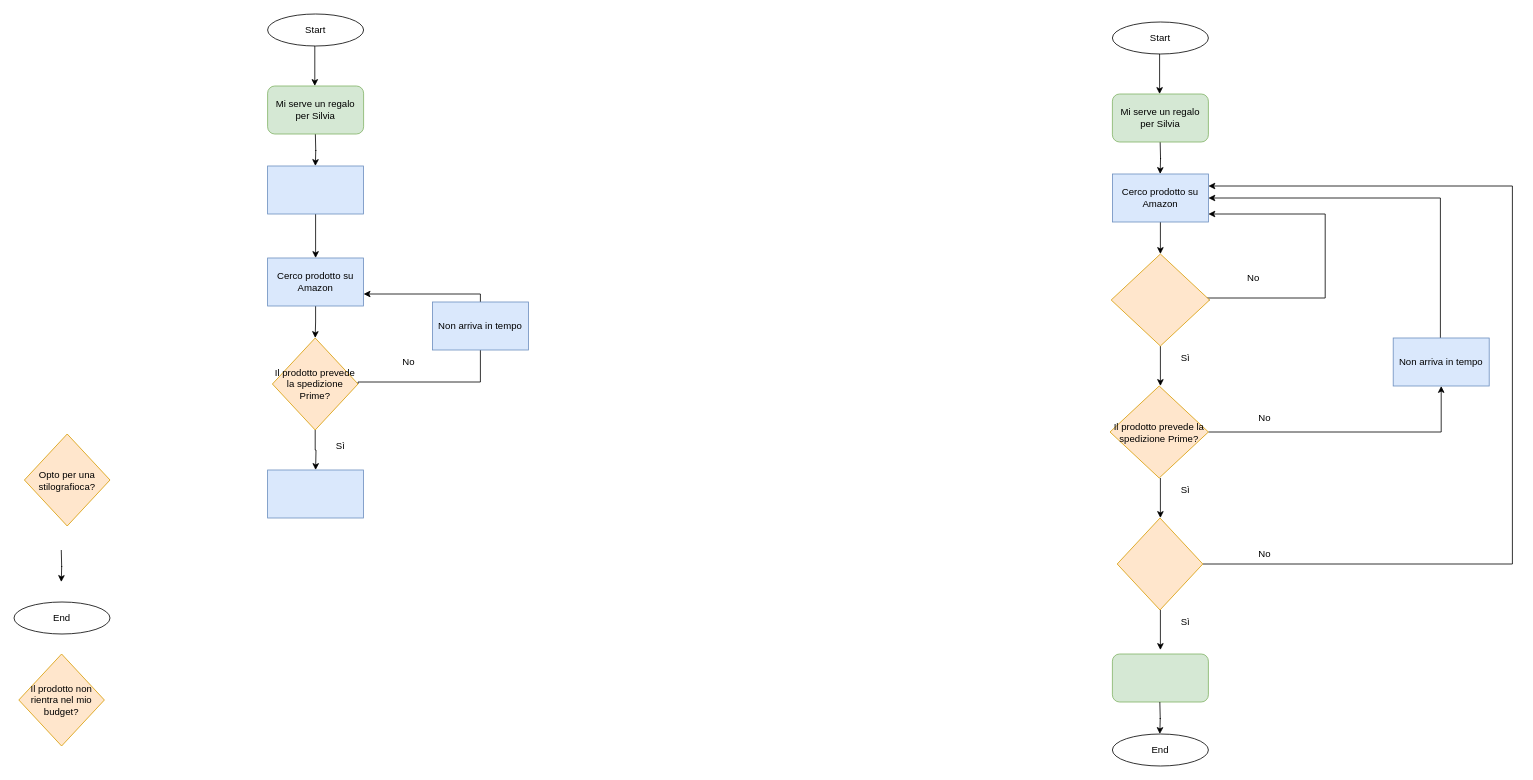
Image size: 1533x780. Some labels were removed from this diagram. The shapes that lost their labels are listed below. From the top down, each one's centre as x and y in pixels, then its label:
At point (315, 189): "Vorrei prenderle una lampada".
At point (1160, 299): "Il prodotto piace a Silvia?".
At point (315, 493): "Opto per una stilografica".
At point (1159, 563): "Rispetta il budget?".
At point (1160, 677): "Acquisto il regalo".
